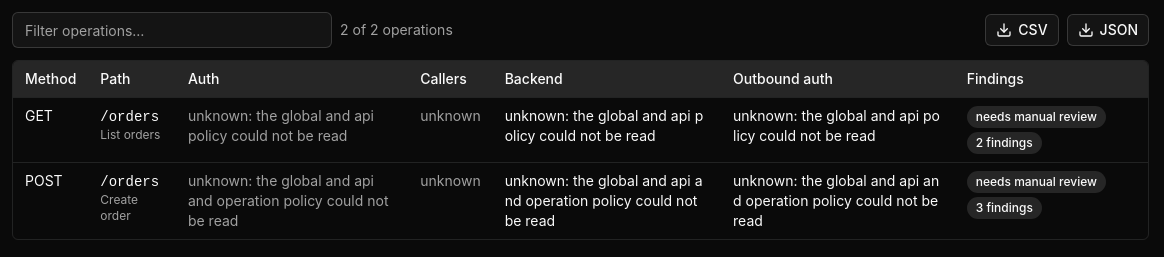
Test: OperationsTable › filters by any text in the row
This screenshot has width=1164, height=257.
In the field labelled "Filter operations": (172, 30) [12,12,332,48], type "POST"
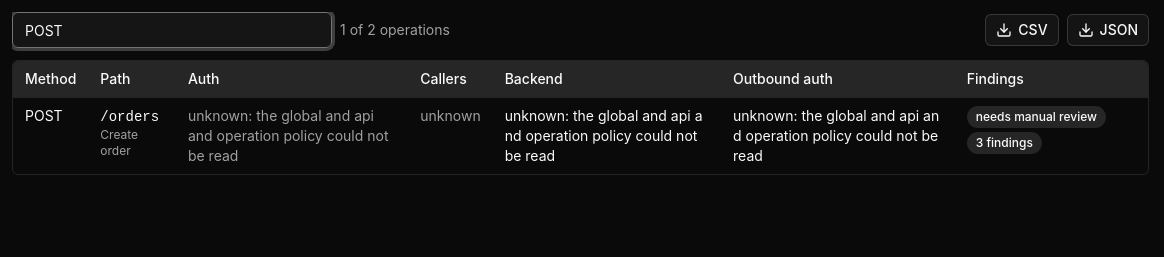
Expected: the text "1 of 2 operations" is shown, [340,20,450,40]
